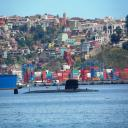submarine: (15, 78, 103, 93)
